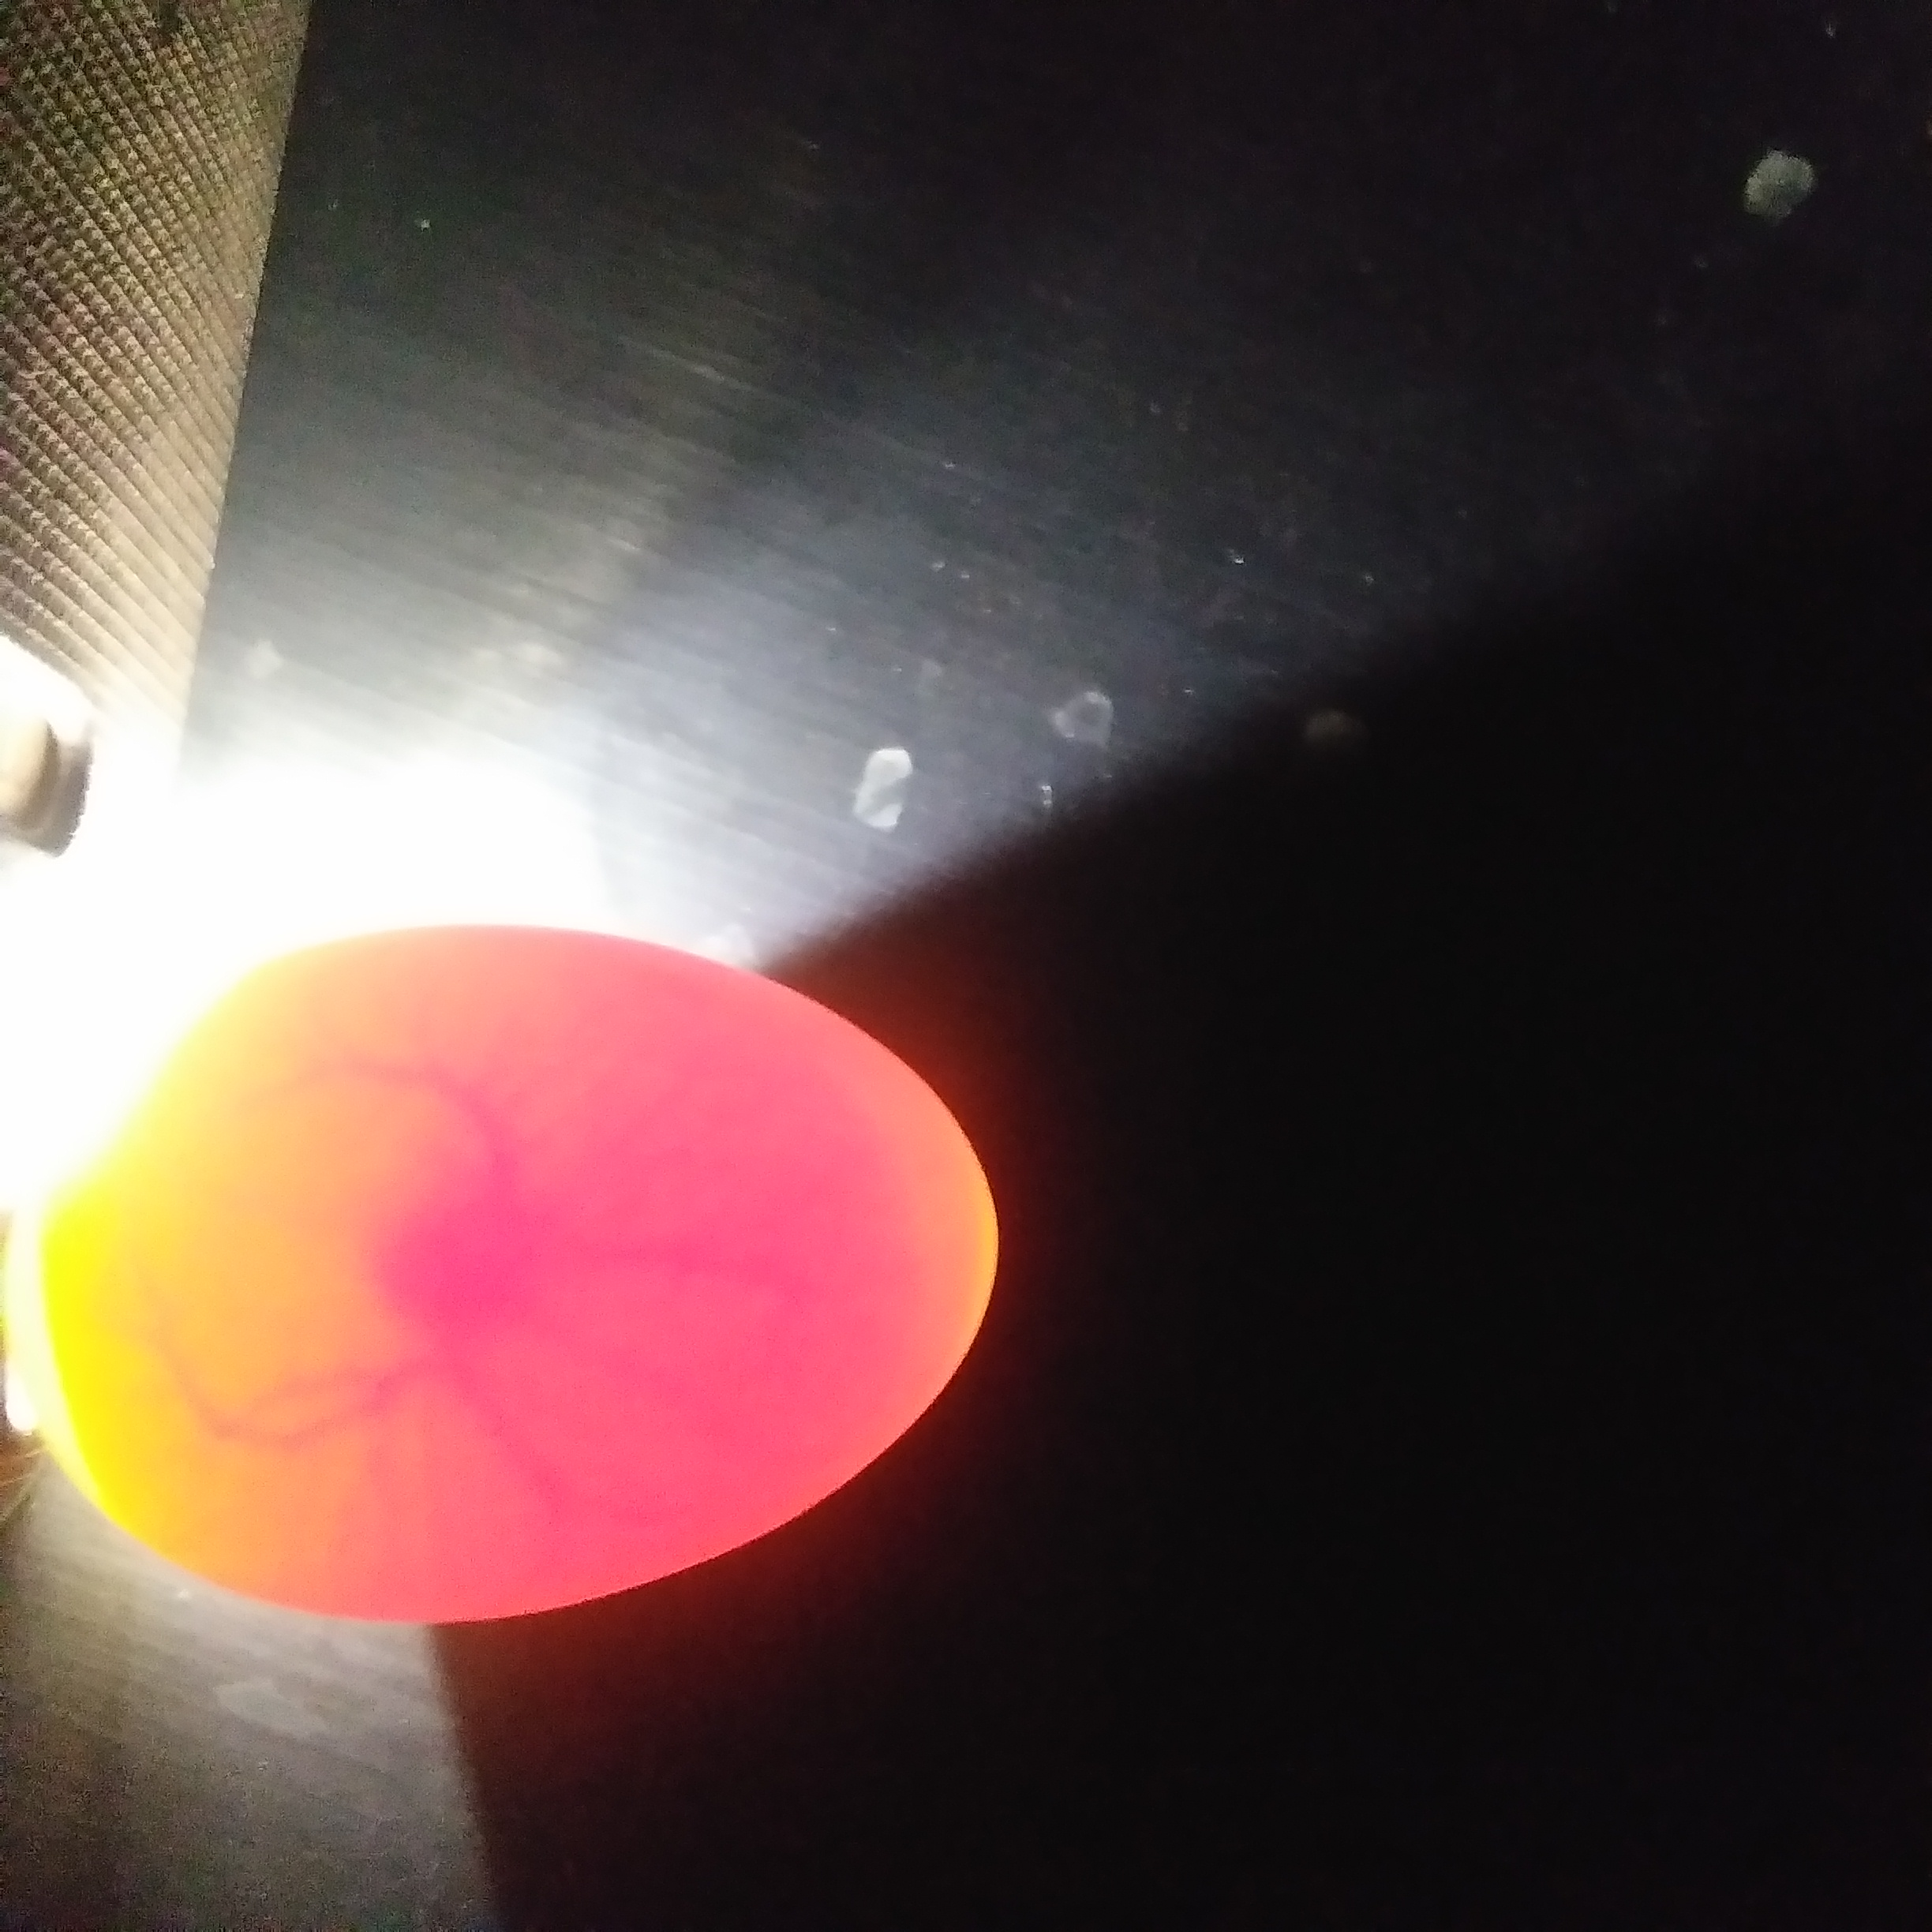bloodcell: (195, 1403, 653, 1571), (366, 1062, 656, 1159)
embryo: (380, 1189, 563, 1357)
